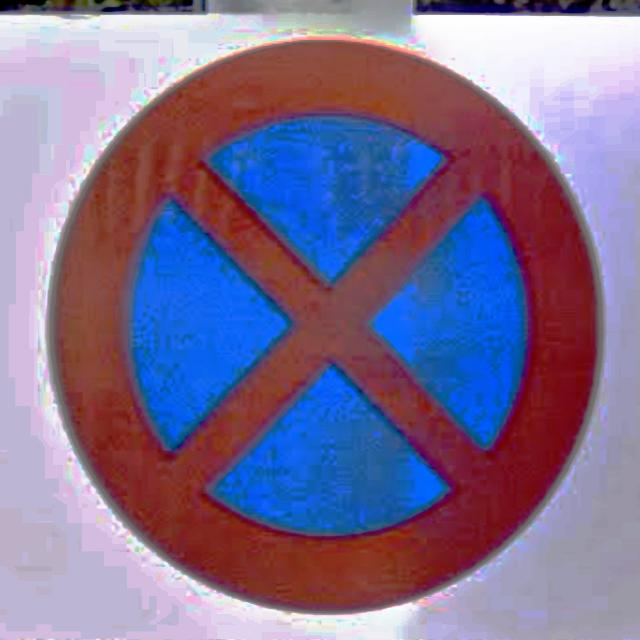nopark: (47, 40, 604, 616)
